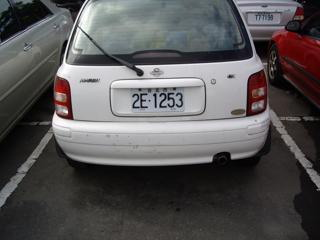plate: (130, 87, 185, 113)
